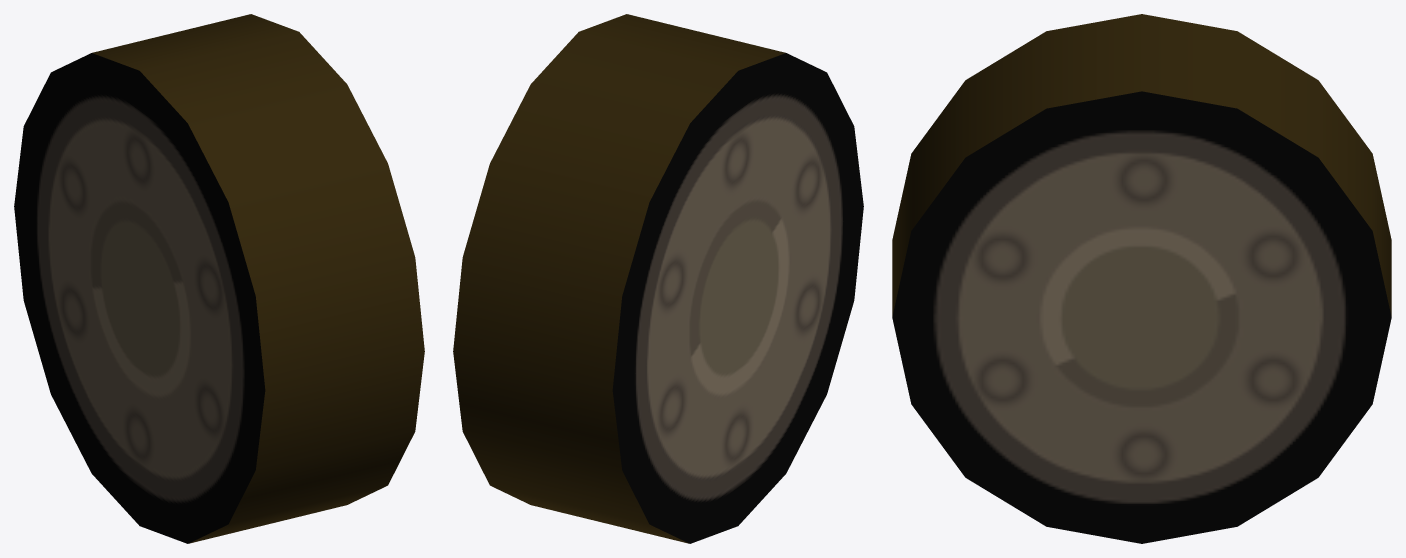
The model's file is Tank2_Wheel.fbx.
The picture shows the model from 3 angles, left to right: view 1: azimuth 30°, elevation 25°; view 2: azimuth 150°, elevation 25°; view 3: azimuth 270°, elevation 25°; orthographic projection.
Parts seen in each view (by area): view 1: wheel; view 2: wheel; view 3: wheel.
Part boxes in pixels (box(x1,y1,x2,y2)): wheel: box(14, 14, 424, 543); wheel: box(453, 14, 863, 543); wheel: box(892, 14, 1391, 543).
Size of the model in its own units: 0.3501 by 0.955 by 0.955.
